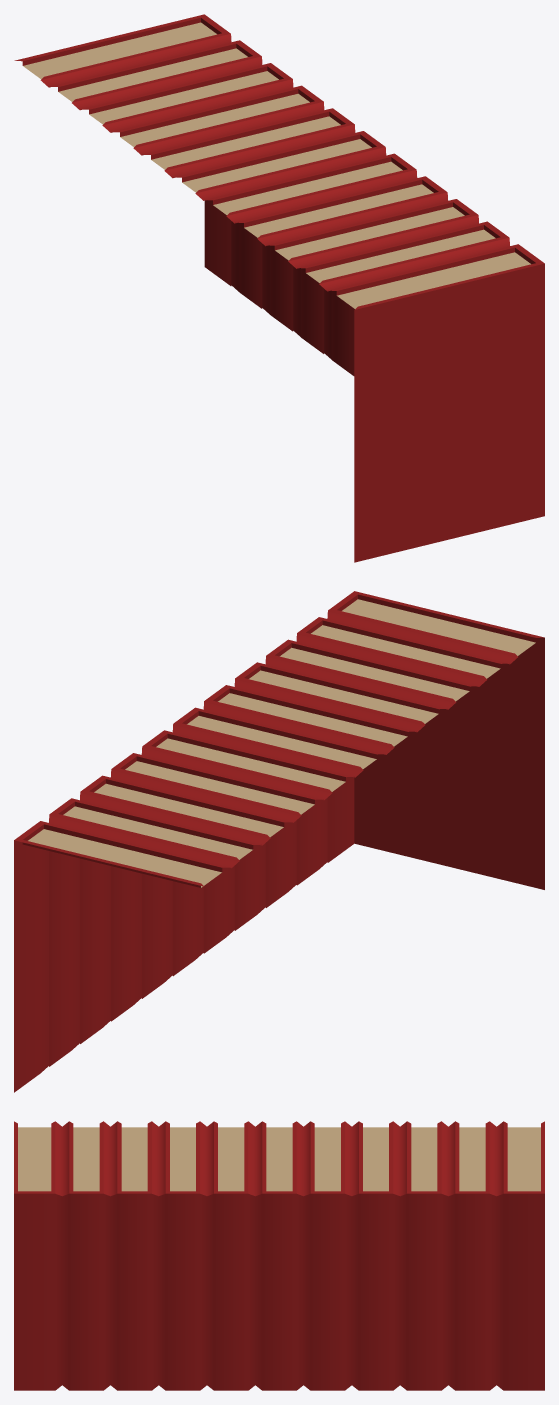
File: HQ_Books02.fbx
3 views of the same model, one above another, from view 1: azimuth 30°, elevation 25°; view 2: azimuth 150°, elevation 25°; view 3: azimuth 270°, elevation 25° (orthographic). The views are drawn at different scales.
Parts seen in each view (by area): view 1: HQ_Books02; view 2: HQ_Books02; view 3: HQ_Books02.
Part boxes in pixels (left/top/right/bottom): HQ_Books02: left=14, top=14, right=544, bottom=562; HQ_Books02: left=14, top=591, right=544, bottom=1092; HQ_Books02: left=14, top=1121, right=544, bottom=1390.
Bounding box in the file's own units: 0.8729 × 1.11 × 2.7.
